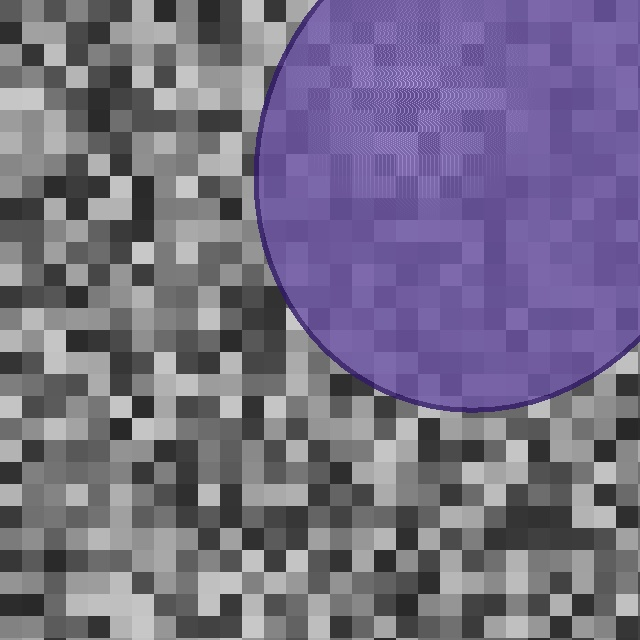lens: (257, 0, 640, 409)
